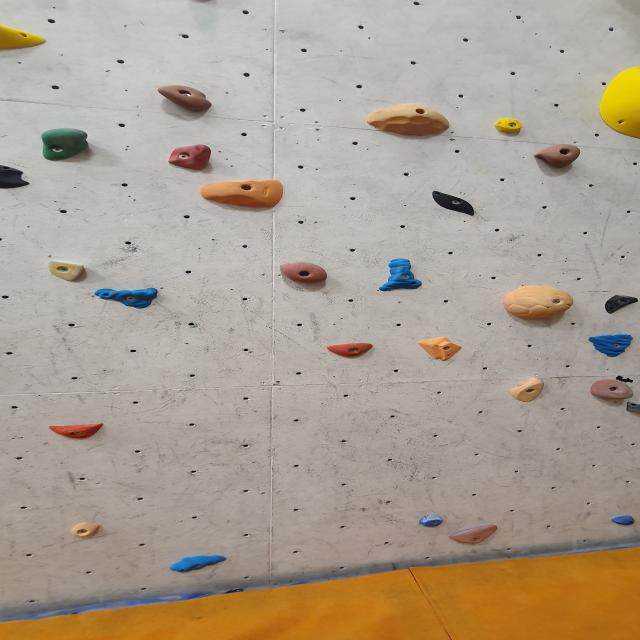Crimp: (92, 287, 160, 306), (447, 524, 502, 545), (167, 555, 227, 574), (587, 336, 635, 357), (46, 424, 108, 440), (46, 262, 89, 283), (323, 343, 377, 359), (492, 119, 528, 137), (68, 525, 104, 541), (418, 514, 445, 527), (612, 516, 637, 527)
Jug: (39, 127, 97, 161), (153, 86, 215, 114), (531, 145, 585, 171), (166, 144, 213, 171), (278, 264, 332, 286), (588, 379, 635, 402)
Pinch: (377, 256, 425, 292), (508, 379, 547, 403)
Sloper: (597, 65, 640, 142), (364, 104, 454, 138), (501, 287, 577, 323), (197, 179, 287, 208), (428, 188, 482, 218), (0, 21, 49, 54), (410, 337, 470, 361), (0, 162, 33, 190), (604, 293, 640, 313)
